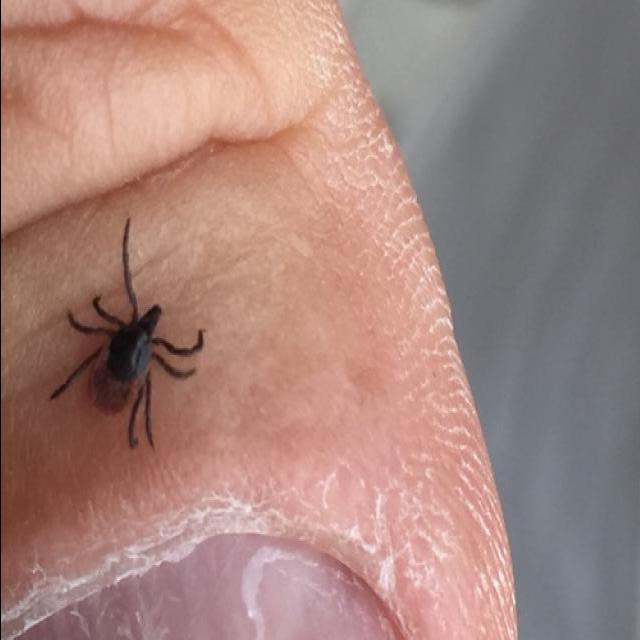Ixodes Ricinus-F: (47, 222, 204, 451)
